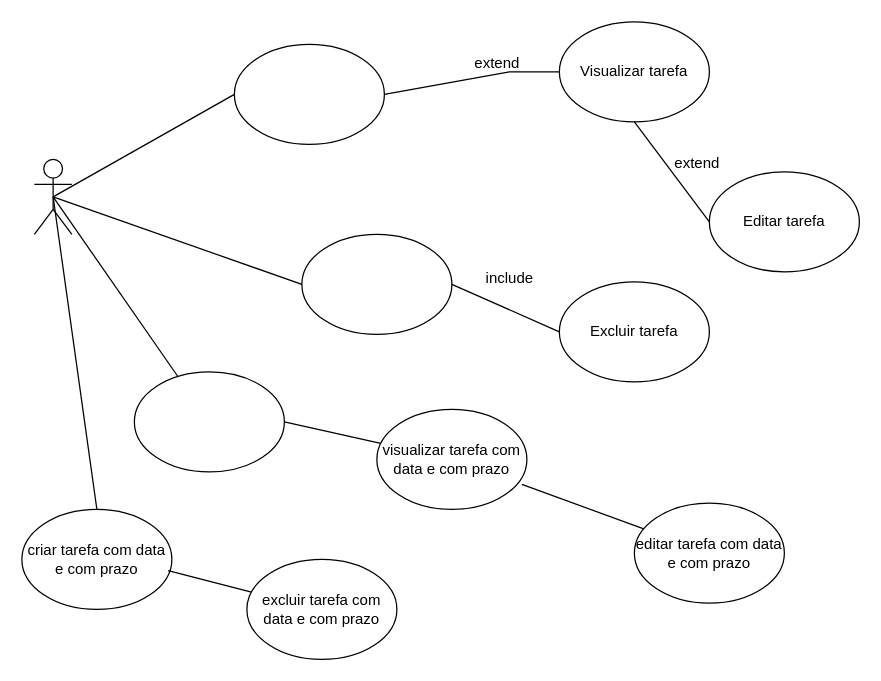
Some shapes in this 881 by 681 pixel diagram are drawn without their labels. The shapes that lost their labels are listed below. From the top down, each one's box as (x1, y1, x2, y2) in pixels, then its label:
(233, 43, 384, 144): Visualizar lista de tarefas
(33, 158, 72, 234): Usuário
(301, 233, 452, 334): Criar tarefa
(133, 371, 284, 472): visualizar lista de tarefa com data e prazo
